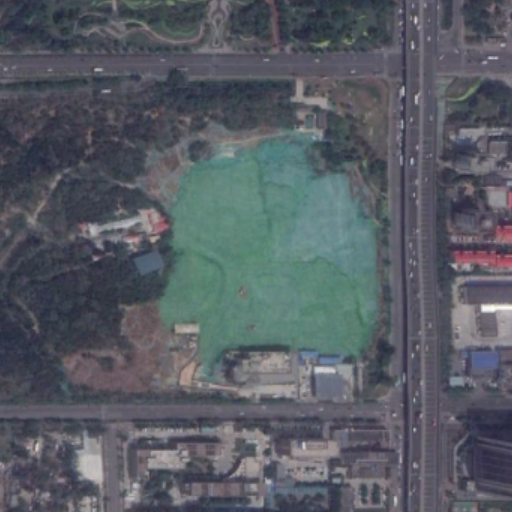cw: (156, 134, 389, 375)
